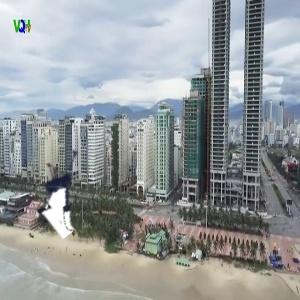drone: (21, 140, 109, 228)
